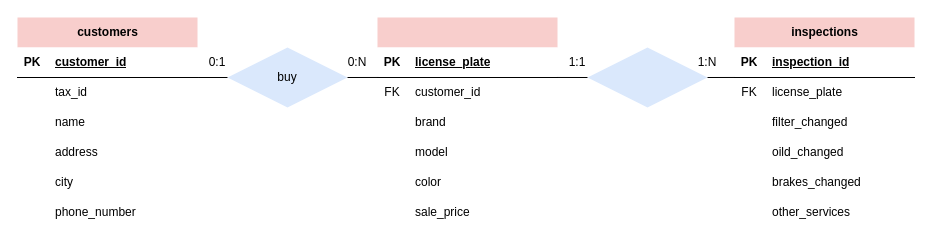
Some shapes in this 932 by 245 pixel diagram are drawn without their labels. Each missing label, with the box of its shape:
cars: (377, 17, 557, 227)
examine: (587, 47, 707, 107)
